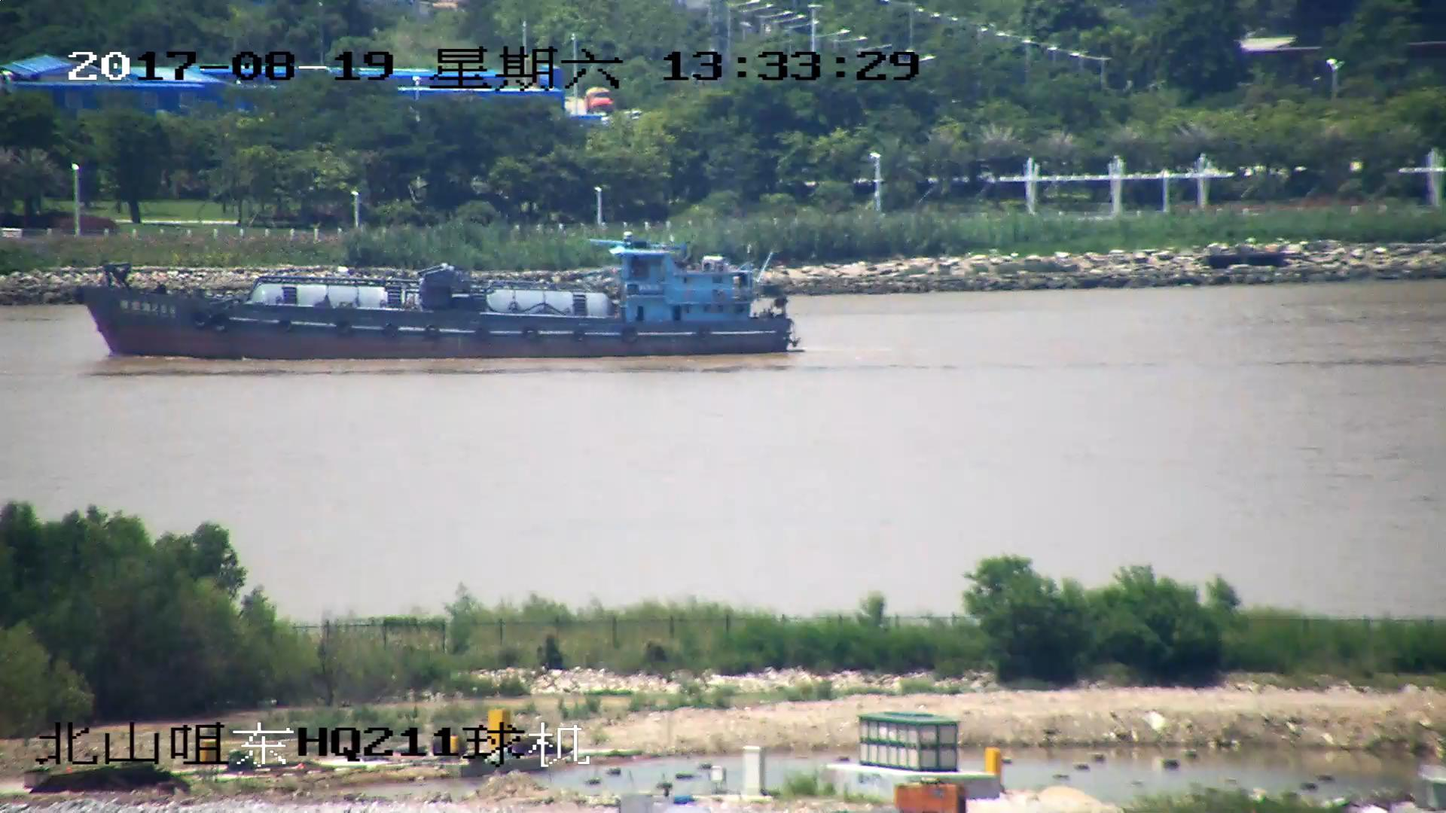bulk cargo carrier: (75, 234, 801, 360)
